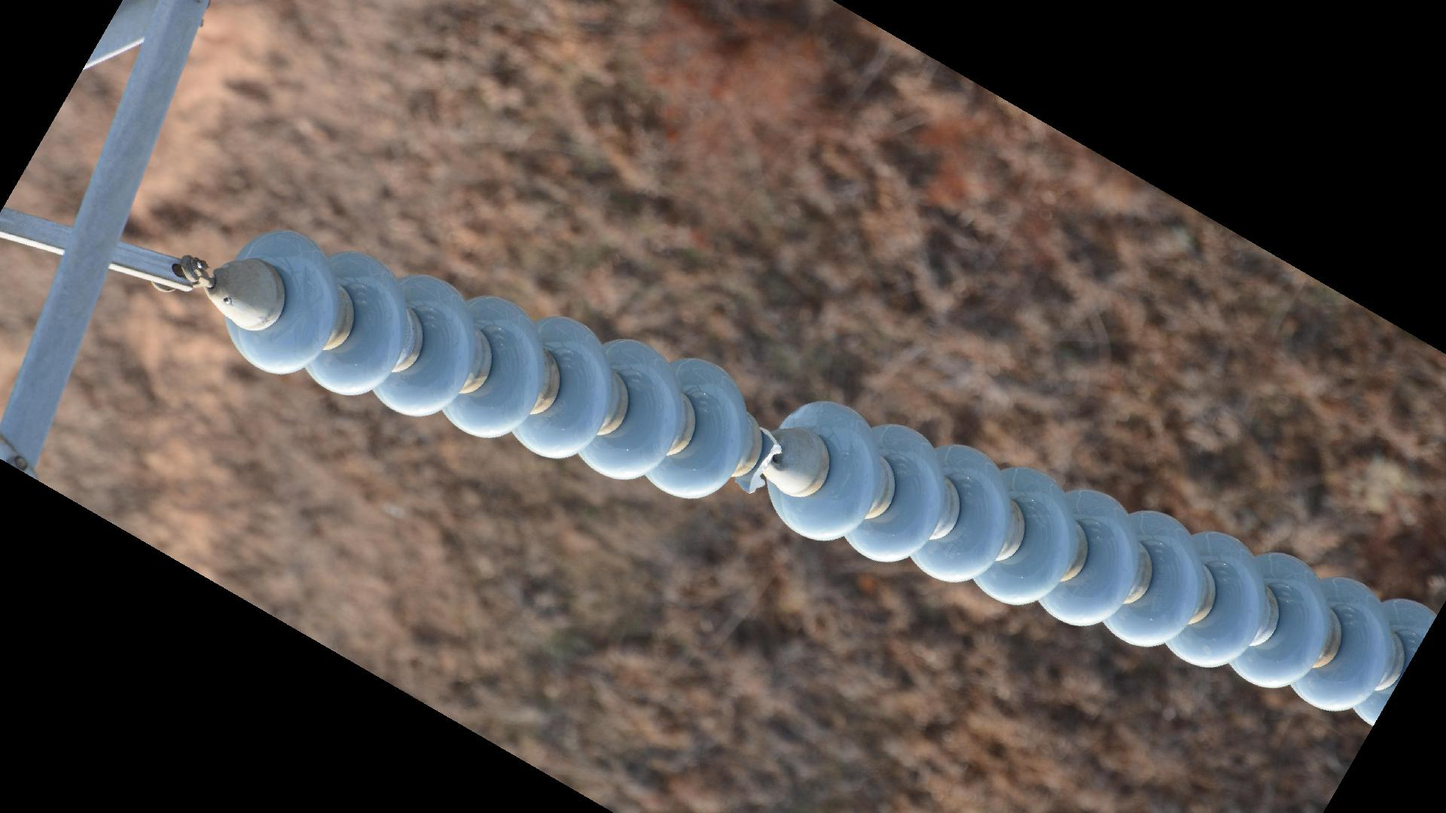insulator: (769, 395, 1446, 733), (218, 221, 748, 510)
insulator_breakage: (733, 418, 785, 502)
